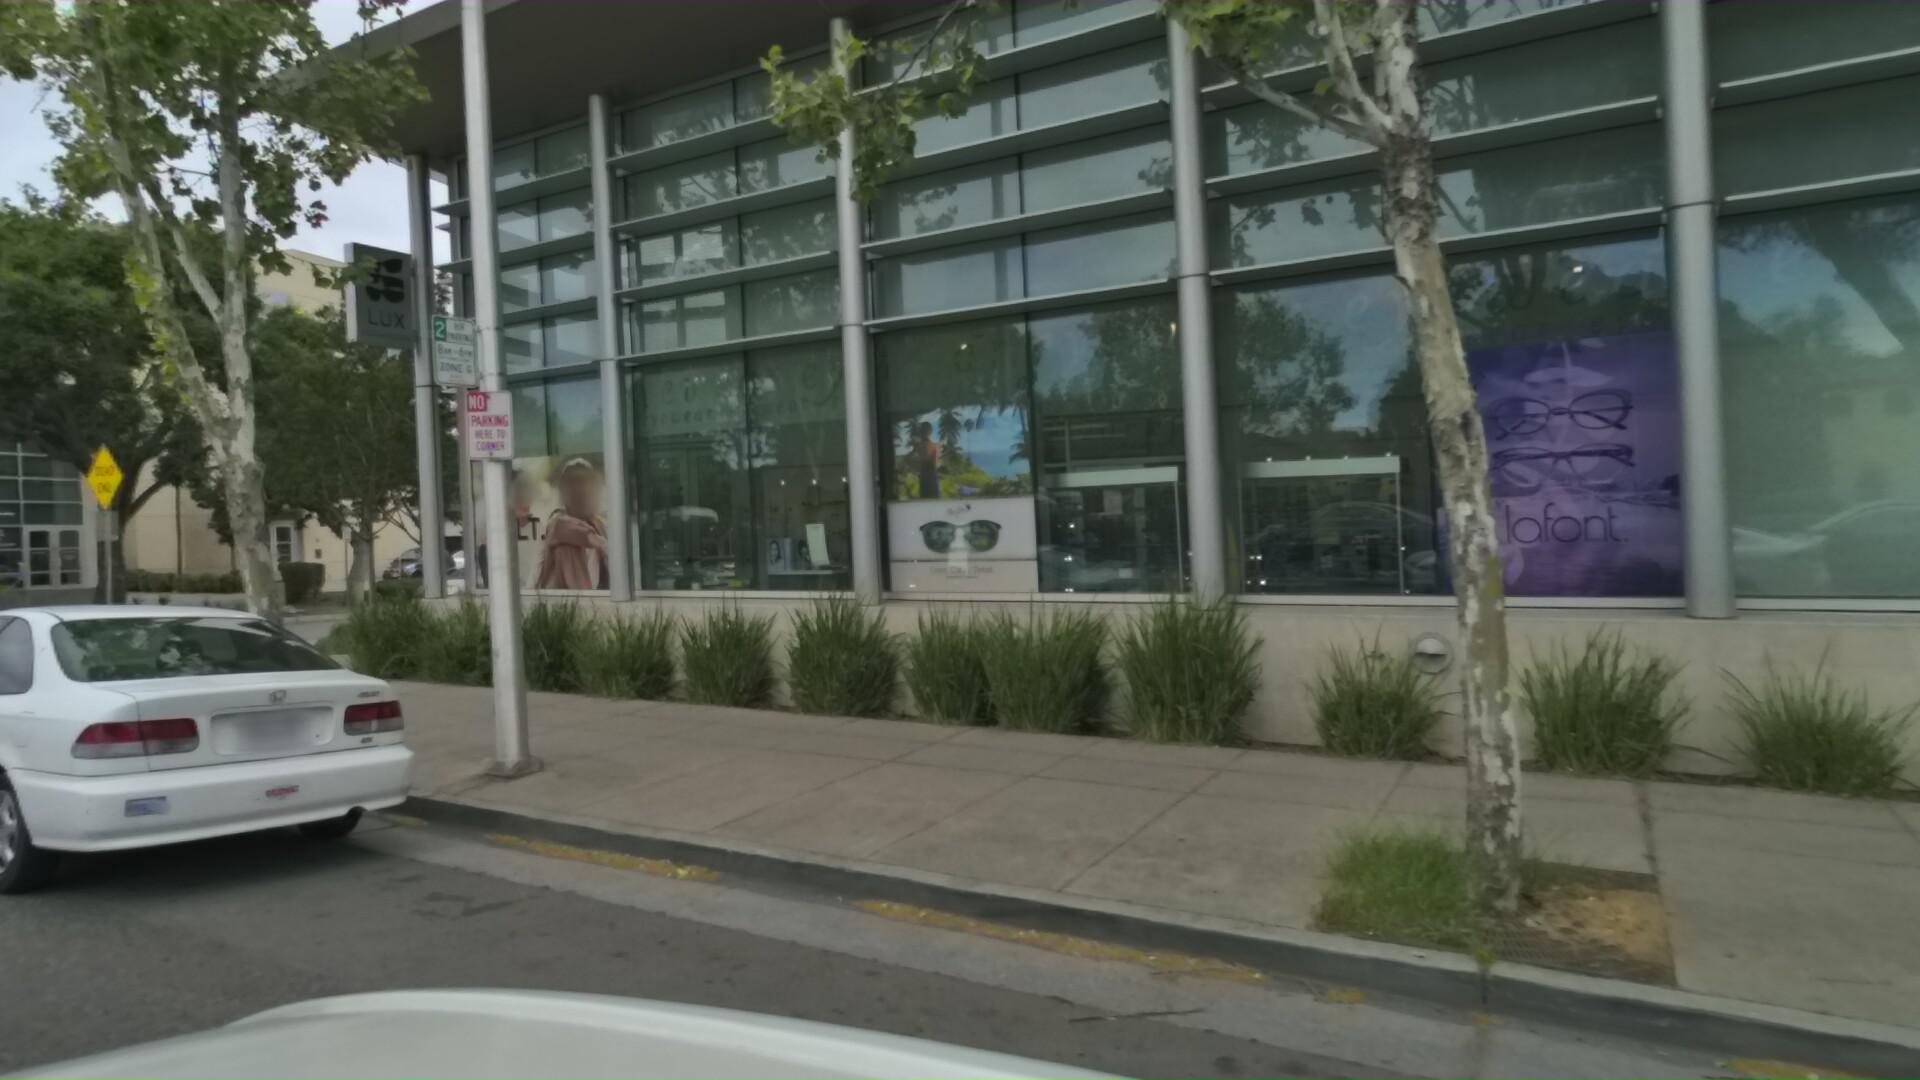car: (0, 578, 526, 986), (410, 551, 559, 608), (386, 537, 492, 582)
